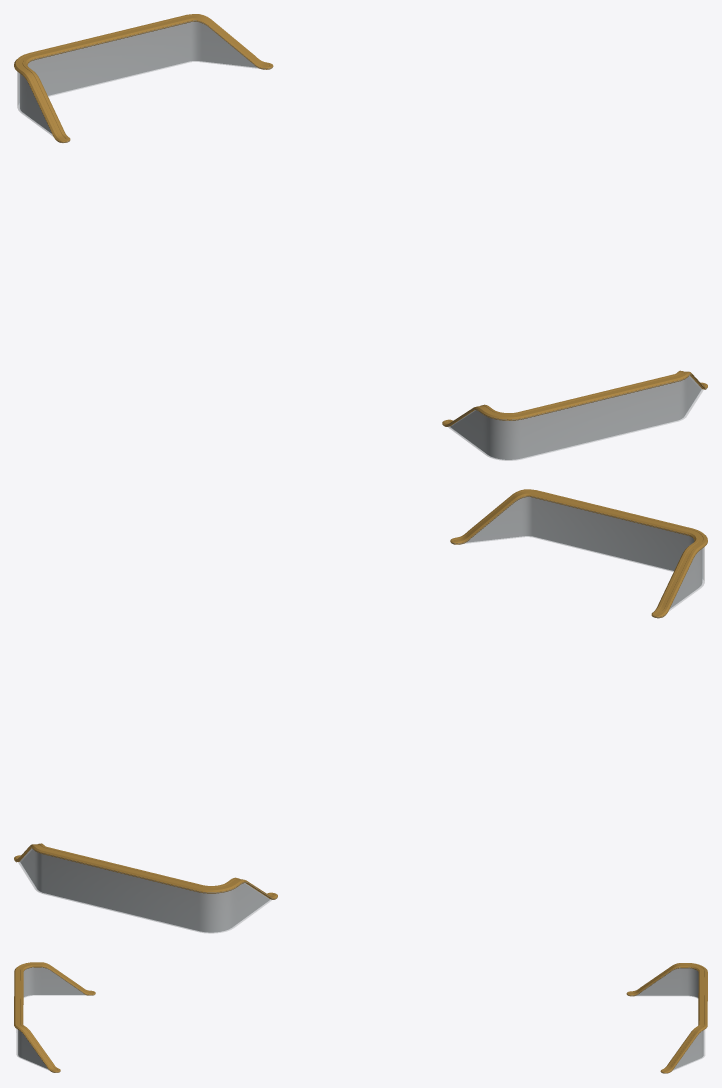
File: BSPKWL_Corner.fbx
3 views of the same model, one above another, from view 1: azimuth 30°, elevation 25°; view 2: azimuth 150°, elevation 25°; view 3: azimuth 270°, elevation 25° (orthographic). The views are drawn at different scales.
Visible parts, largest first — view 1: sm_wall_medium_screen.011; view 2: sm_wall_medium_screen.011; view 3: sm_wall_medium_screen.011.
Part boxes in pixels (bbox=[...]): sm_wall_medium_screen.011: bbox=[14, 14, 707, 460]; sm_wall_medium_screen.011: bbox=[14, 489, 707, 933]; sm_wall_medium_screen.011: bbox=[14, 962, 707, 1073].
Size of the model in its own units: 3391 by 596 by 12121.
